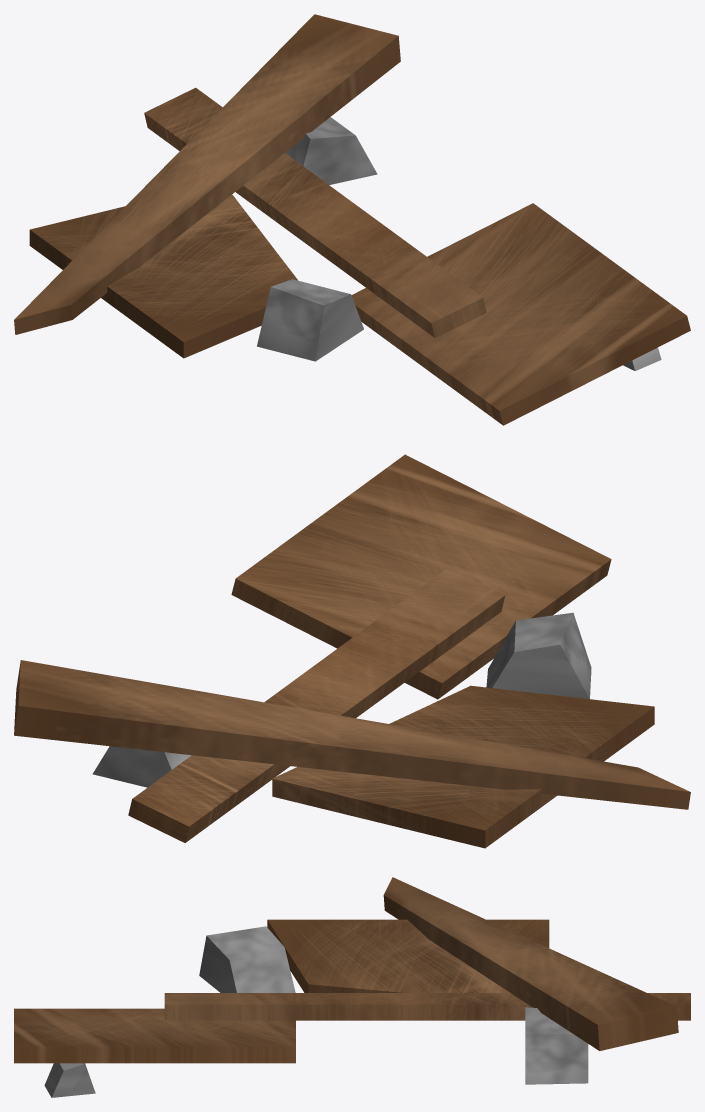
Rendered from MadeiraComDestroços1.fbx.
The picture shows the model from 3 angles, top to bottom: view 1: azimuth 30°, elevation 25°; view 2: azimuth 150°, elevation 25°; view 3: azimuth 270°, elevation 25°; orthographic projection. The views are drawn at different scales.
Parts seen in each view (by area): view 1: pCube10; view 2: pCube10; view 3: pCube10.
Part boxes in pixels (x1,y1,x2,y2): pCube10: (14, 14, 690, 425); pCube10: (14, 454, 690, 848); pCube10: (14, 877, 690, 1097).
Size of the model in its own units: 248 by 49.57 by 318.
